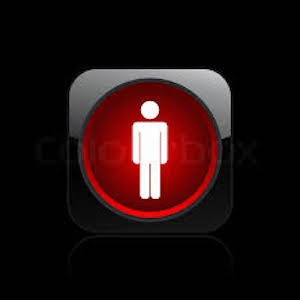red: (122, 102, 180, 200)
